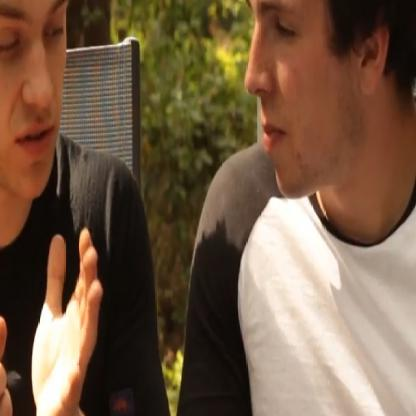knife: (0, 209, 24, 415)
